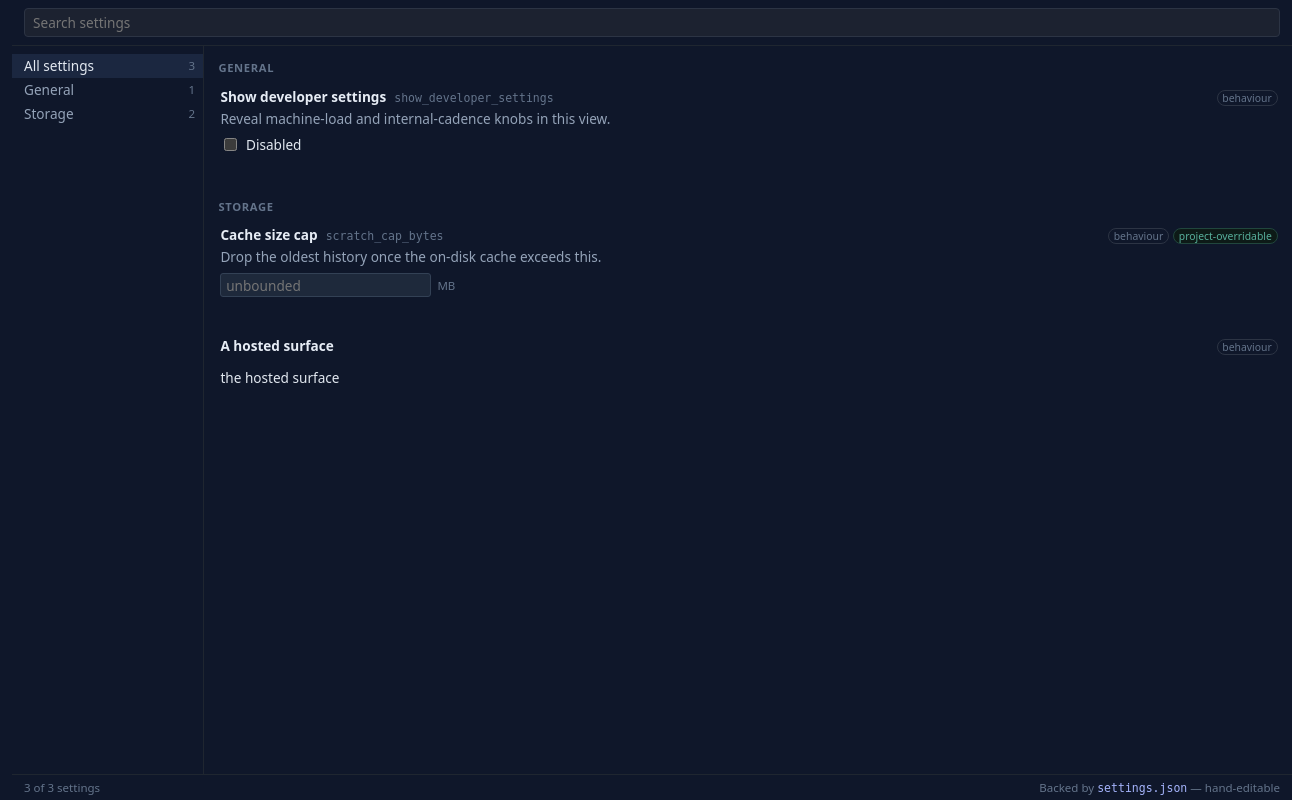
Scenario: developer settings › clear the group selection when a search starts
The width and height of the screenshot is (1292, 800).
Expected: the text "Cache size cap" is shown, [220,225,318,244]
Step 1. Click the list item "Storage 2" → (108, 114), box [12,102,203,125]
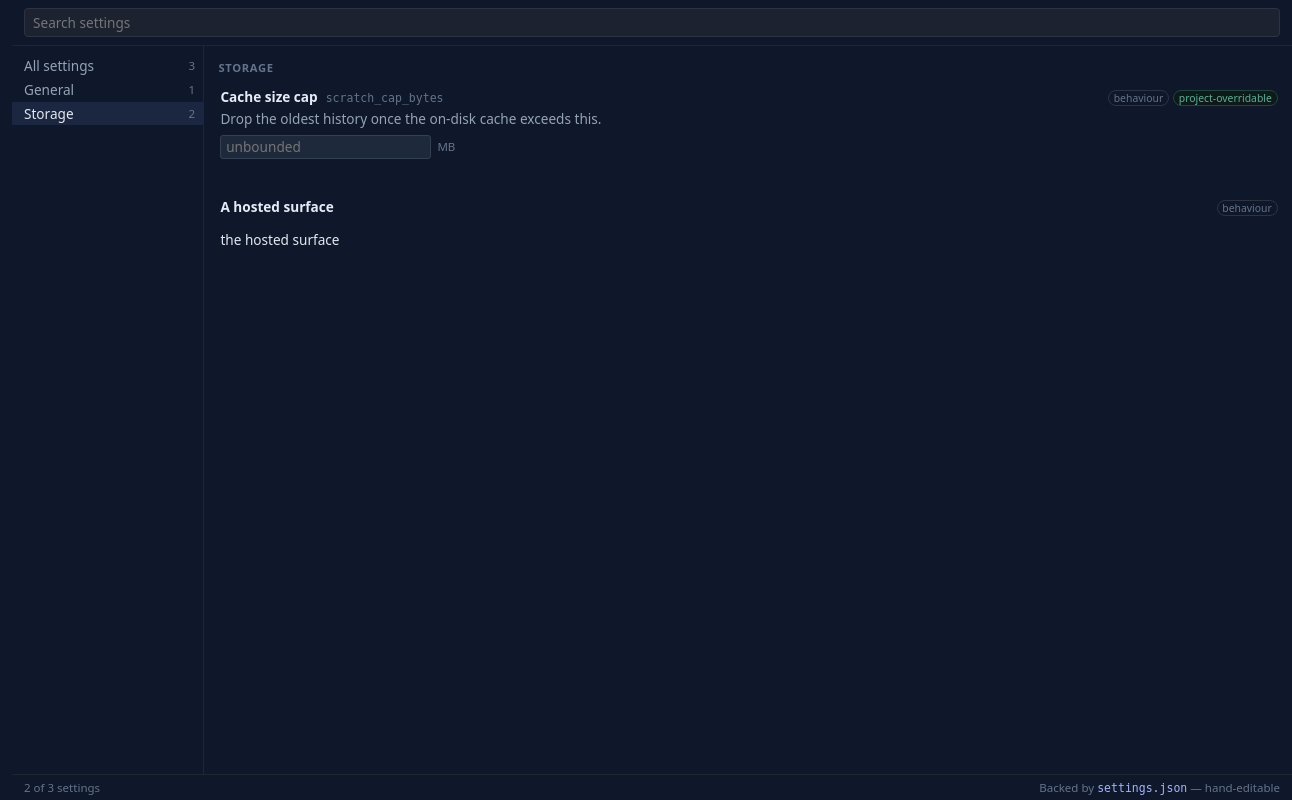
Now the list item "Storage 2" is selected, box [12,102,203,125]
Step 2. Type "developer" into the search field → (652, 22), box [24,8,1280,37]
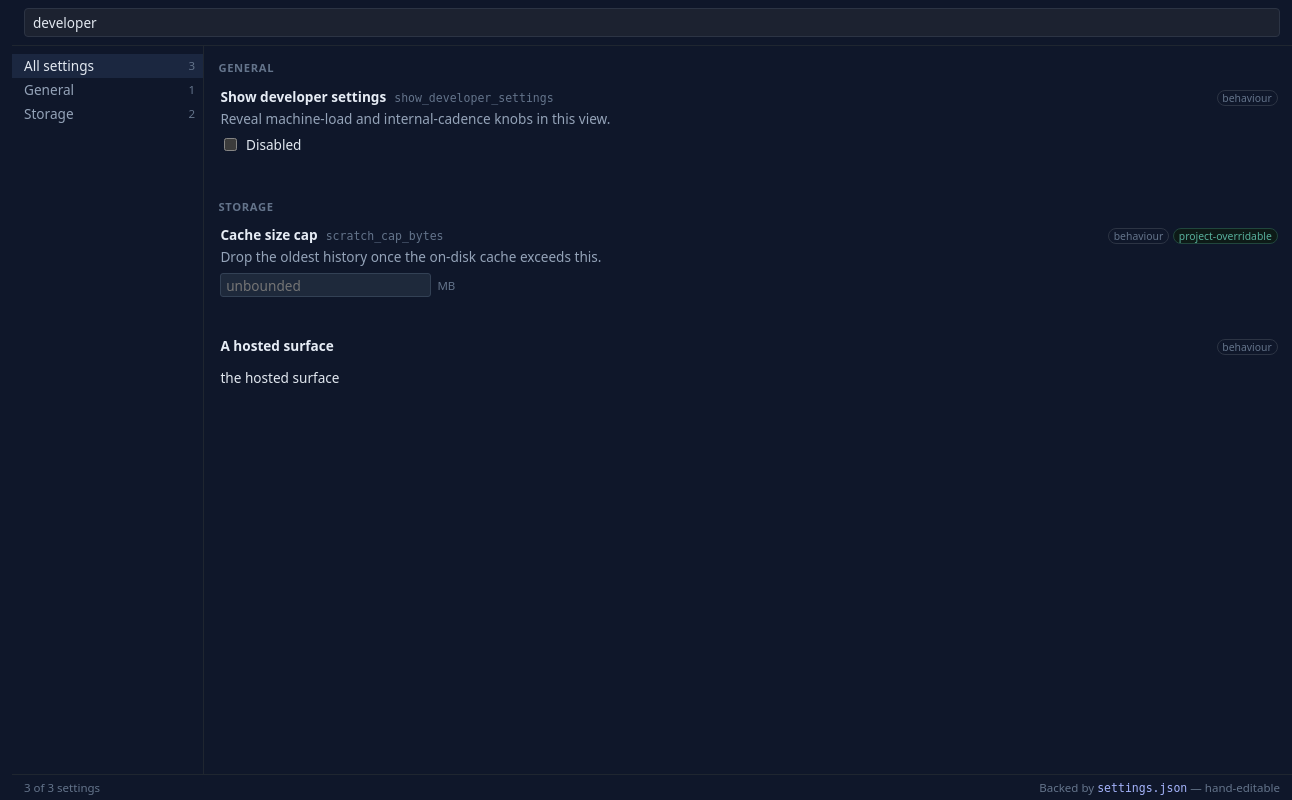
Now the text "Show developer settings" is shown, box [220,87,386,106]
